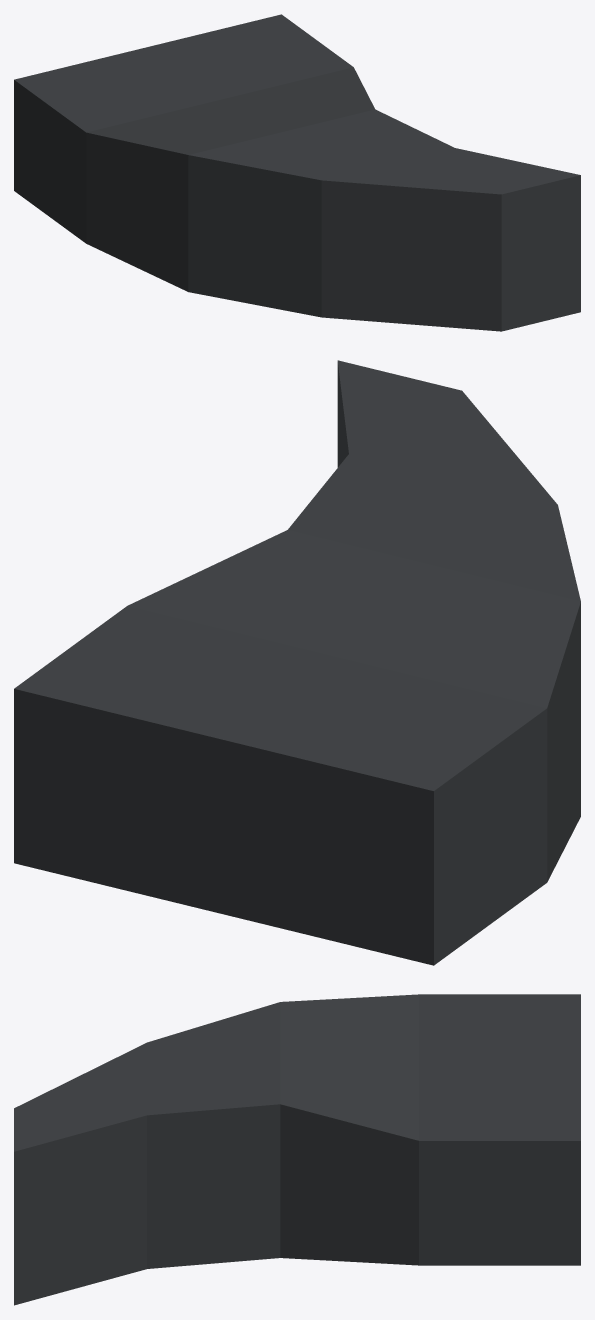
Rendered from SniperRifle2_02_3.fbx.
3 renders of one model, top to bottom at view 1: azimuth 30°, elevation 25°; view 2: azimuth 150°, elevation 25°; view 3: azimuth 270°, elevation 25°, orthographic. The views are drawn at different scales.
Parts seen in each view (by area): view 1: SniperRifle2_02_3; view 2: SniperRifle2_02_3; view 3: SniperRifle2_02_3.
Boxes of the visible parts, x1,y1,x2,y2 form: SniperRifle2_02_3: [14, 14, 580, 331]; SniperRifle2_02_3: [14, 360, 580, 965]; SniperRifle2_02_3: [14, 994, 580, 1305].
Bounding box in the file's own units: 0.0178 × 0.00741 × 0.0248.
